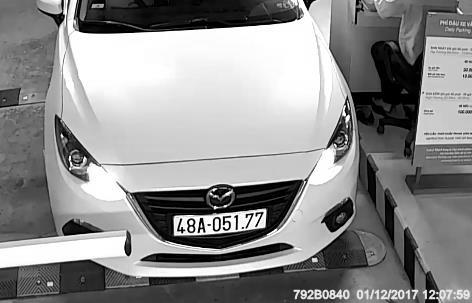License-plate: (171, 208, 272, 239)
